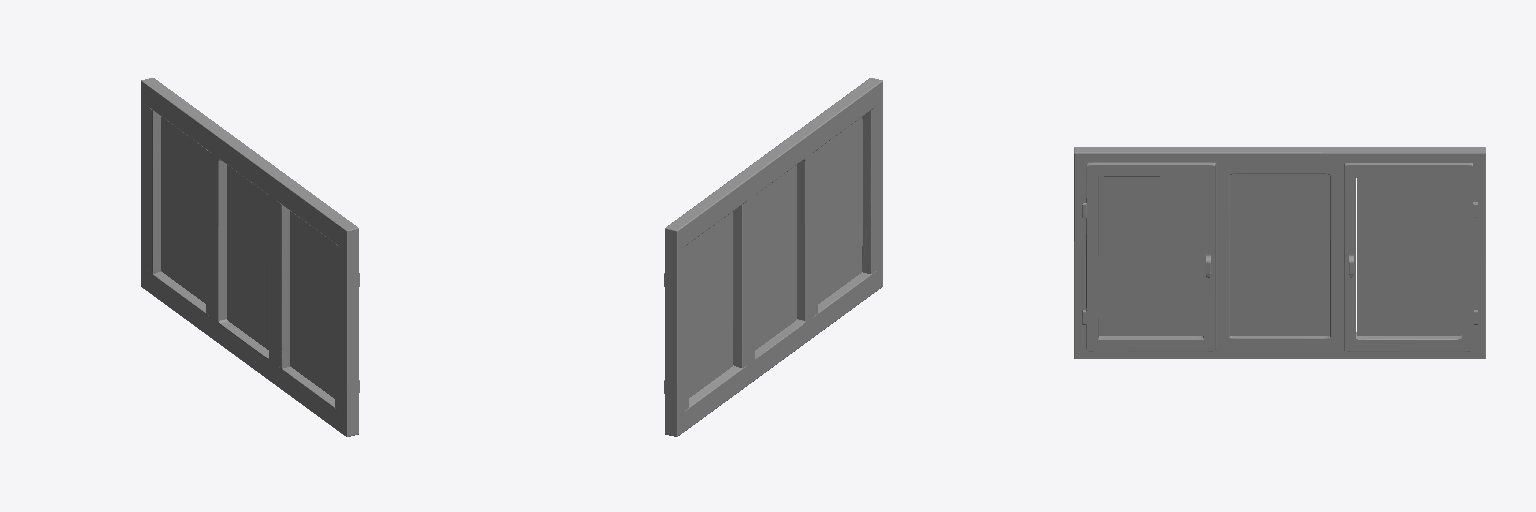
The model's file is Window.obj.
3 renders of one model, left to right at view 1: azimuth 30°, elevation 25°; view 2: azimuth 150°, elevation 25°; view 3: azimuth 270°, elevation 25°, orthographic.
Parts seen in each view (by area): view 1: Window_Cube, Glass_Cube.001; view 2: Window_Cube, Glass_Cube.001; view 3: Glass_Cube.001, Window_Cube.
Part boxes in pixels (bbox=[...]): Window_Cube: bbox=[141, 78, 359, 436]; Glass_Cube.001: bbox=[161, 117, 334, 398]; Window_Cube: bbox=[664, 78, 882, 436]; Glass_Cube.001: bbox=[689, 117, 862, 397]; Glass_Cube.001: bbox=[1098, 174, 1461, 335]; Window_Cube: bbox=[1074, 147, 1485, 358].
Bounding box in the file's own units: 0.6903 × 5.52 × 9.97.